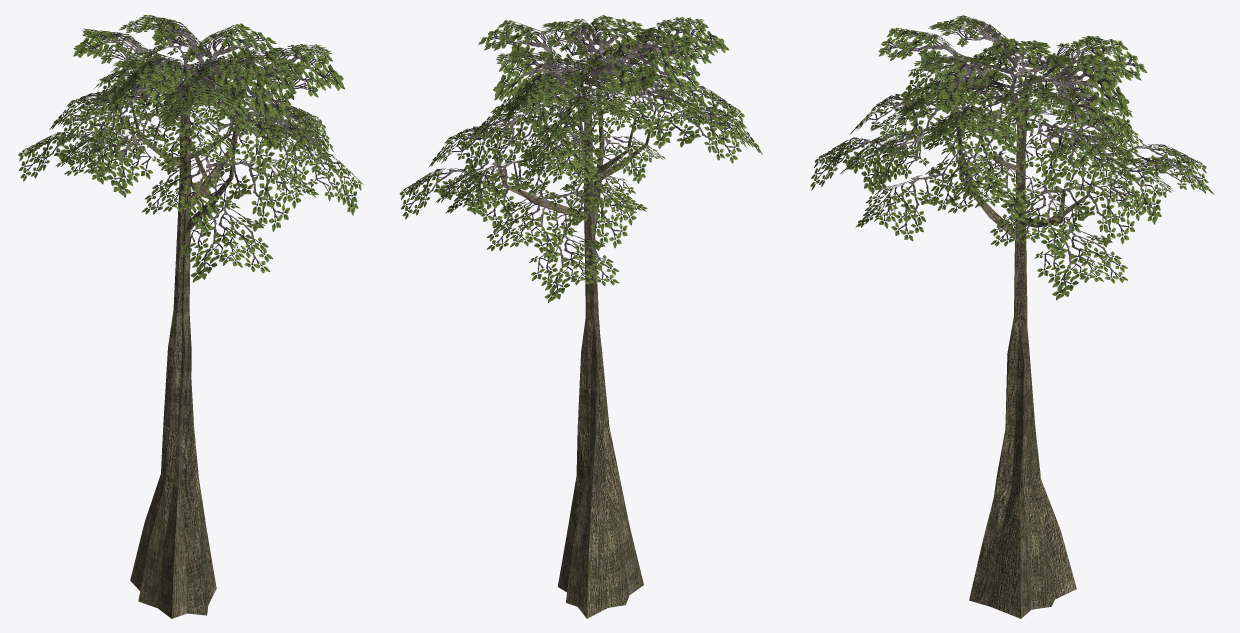
The model's file is flora_tree_tropic_rainforest_v2.glb.
The picture shows the model from 3 angles, left to right: view 1: azimuth 30°, elevation 25°; view 2: azimuth 150°, elevation 25°; view 3: azimuth 270°, elevation 25°; orthographic projection. The views are drawn at different scales.
Parts seen in each view (by area): view 1: flora_tree_tropic_rainforest_v2_part0; view 2: flora_tree_tropic_rainforest_v2_part0; view 3: flora_tree_tropic_rainforest_v2_part0.
Boxes of the visible parts, left/top/right/bottom form: flora_tree_tropic_rainforest_v2_part0: left=18, top=15, right=364, bottom=618; flora_tree_tropic_rainforest_v2_part0: left=399, top=15, right=762, bottom=618; flora_tree_tropic_rainforest_v2_part0: left=810, top=15, right=1214, bottom=618.
Size of the model in its own units: 13.68 by 23.24 by 16.07.
Materials: 1 (1 with a texture image).
